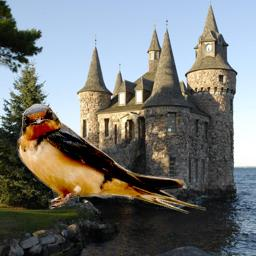Swallow: (15, 103, 206, 220)
